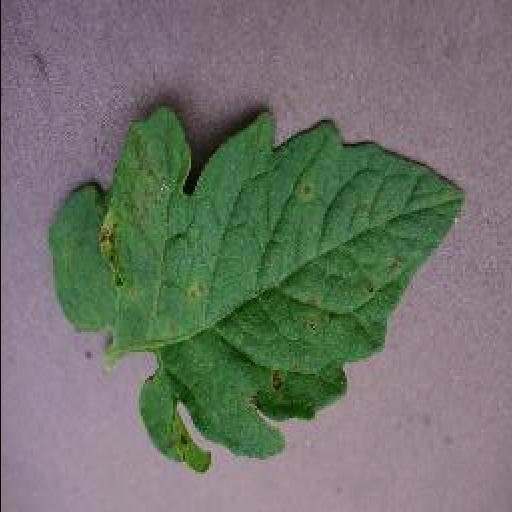disease_tomato: (46, 106, 466, 475)
